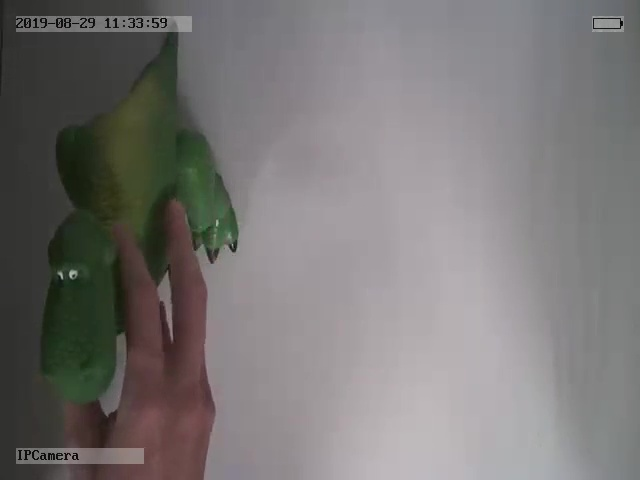rex: (39, 31, 239, 406)
